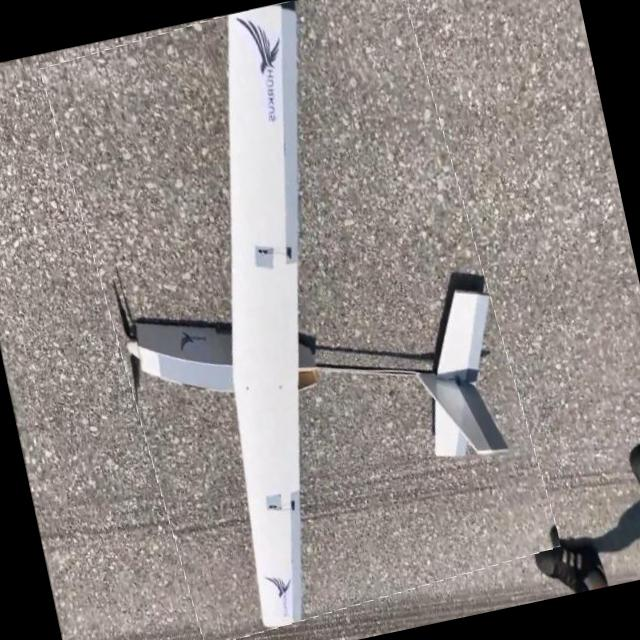UAV: (38, 9, 532, 630)
